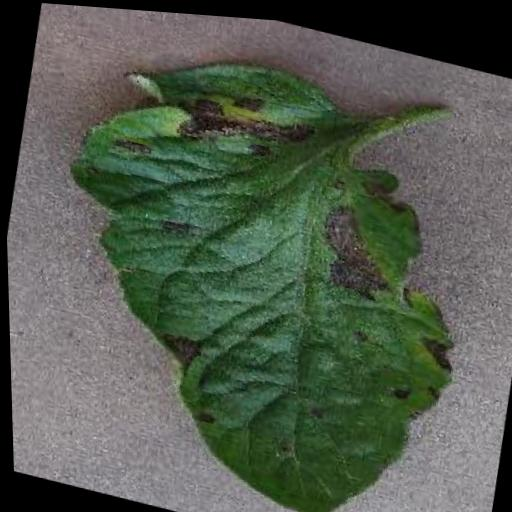Early Blight: (14, 3, 498, 512)
